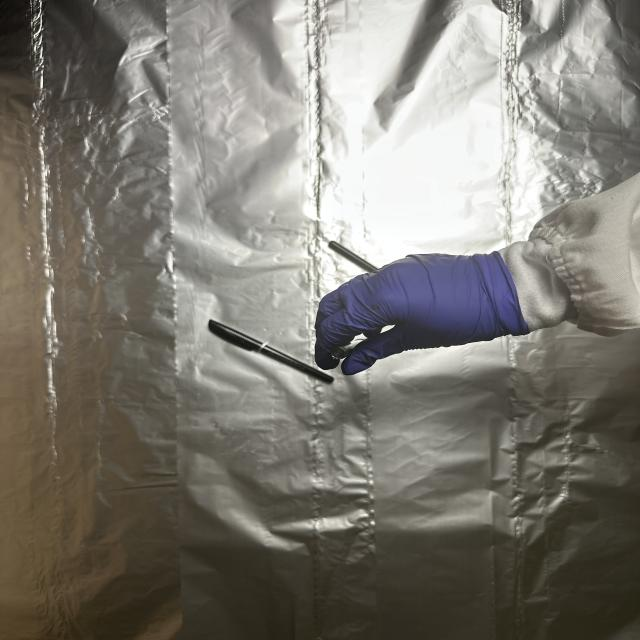gloves_contaminated: (315, 251, 529, 375)
